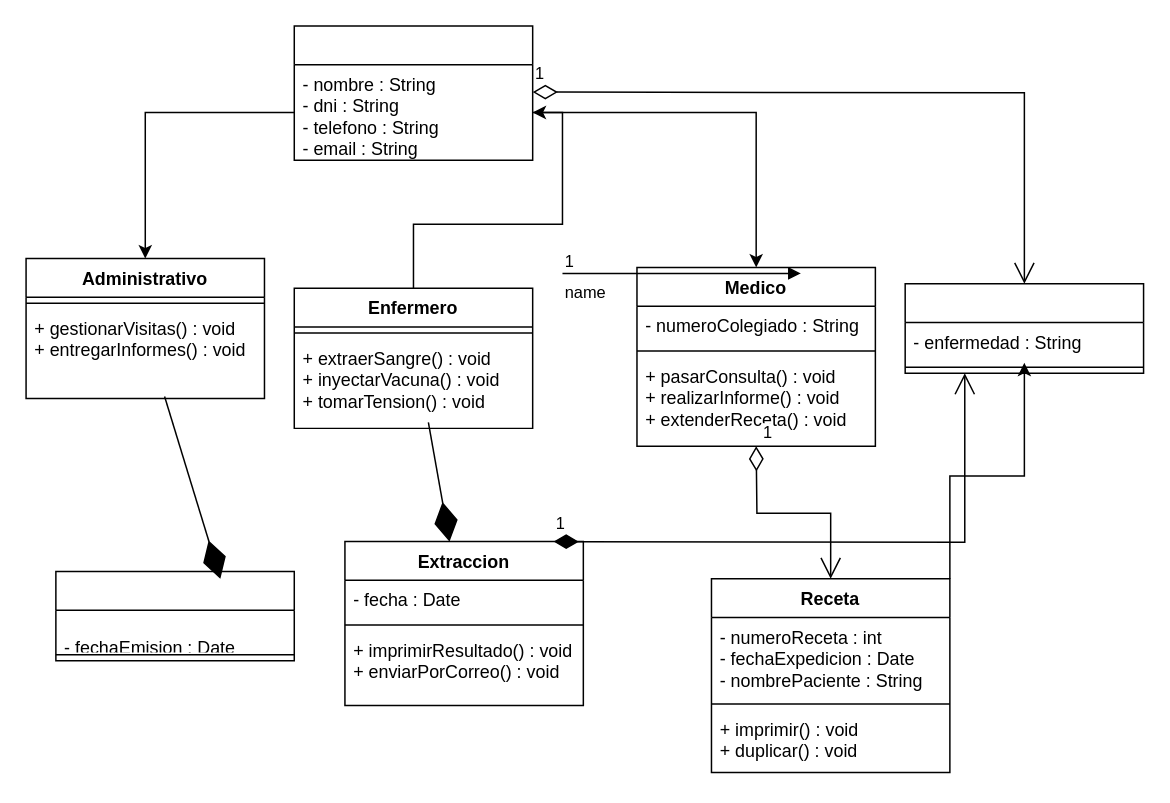
Some shapes in this 1170 by 803 pixel diagram are drawn without their labels. The shapes that lost their labels are listed below. From the top down, each one's box as (x1, y1, x2, y2) in pixels, then its label:
(293, 25, 533, 160): Persona
(904, 282, 1144, 373): Paciente
(54, 570, 294, 661): Informe
